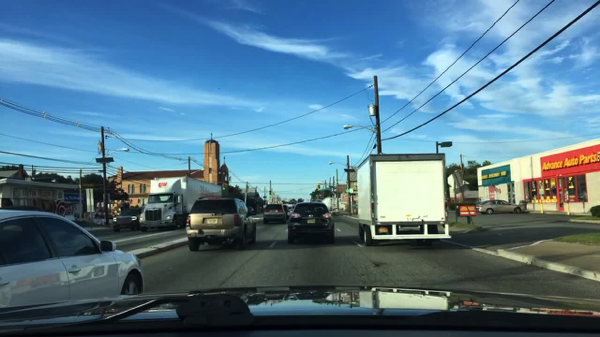car: (0, 209, 145, 310), (185, 195, 257, 251), (287, 202, 335, 245), (112, 208, 144, 234), (474, 200, 525, 214), (263, 204, 287, 225), (95, 213, 113, 224), (282, 205, 290, 220), (246, 205, 256, 217), (287, 204, 294, 212)
traffic light: (222, 183, 226, 191), (316, 185, 320, 191), (269, 191, 272, 198)
traffic sign: (451, 172, 462, 188), (103, 192, 110, 204), (348, 188, 353, 193), (263, 196, 268, 198)
truck: (356, 153, 451, 247), (138, 176, 222, 232), (322, 197, 340, 216)
